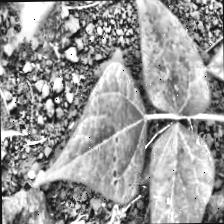ALS: (29, 57, 138, 204), (125, 0, 213, 118), (147, 125, 214, 224)
